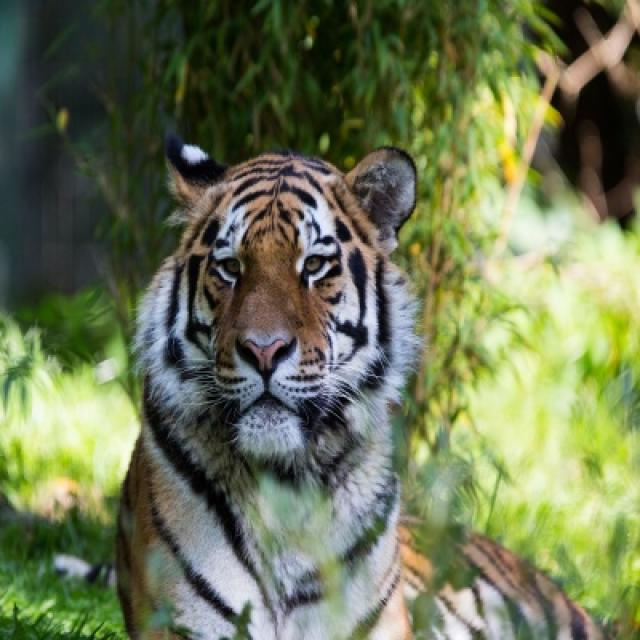Tiger: (116, 140, 599, 636)
